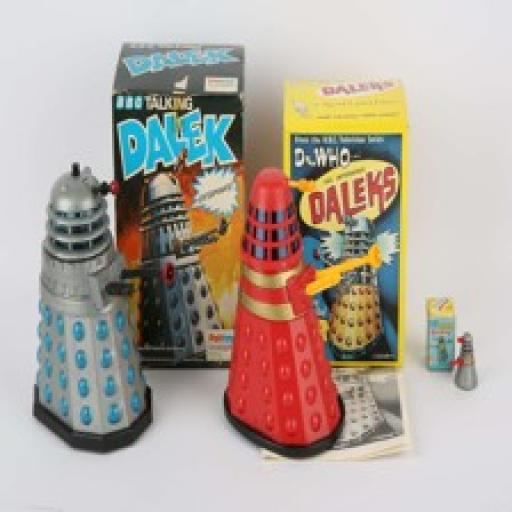dalek: (216, 166, 380, 452), (32, 159, 154, 450), (134, 165, 232, 383), (319, 208, 393, 354), (450, 328, 478, 396)
